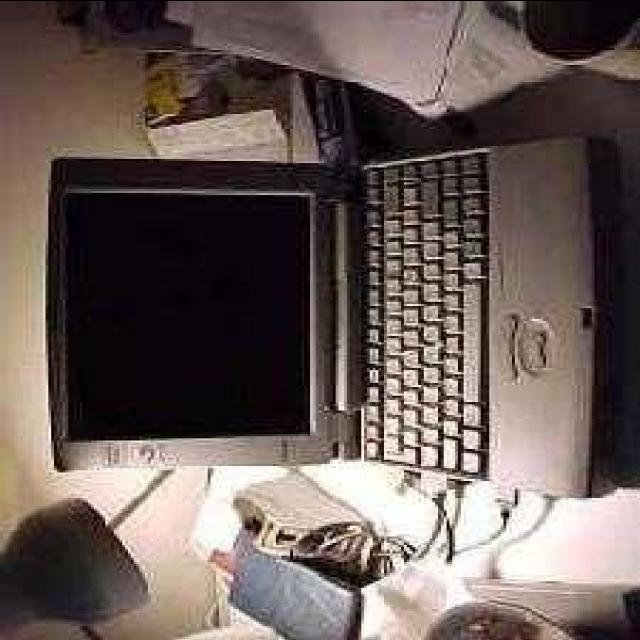laptop: (54, 134, 601, 474)
